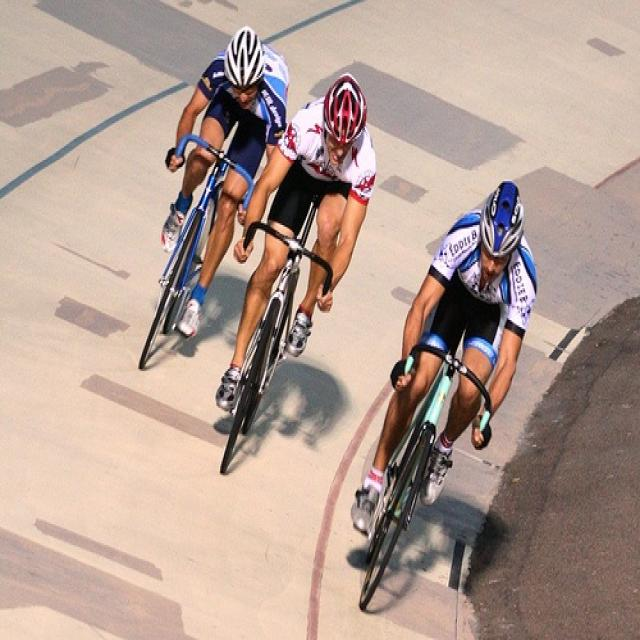bicycle: (357, 341, 493, 610), (219, 220, 333, 475), (136, 135, 254, 366)
